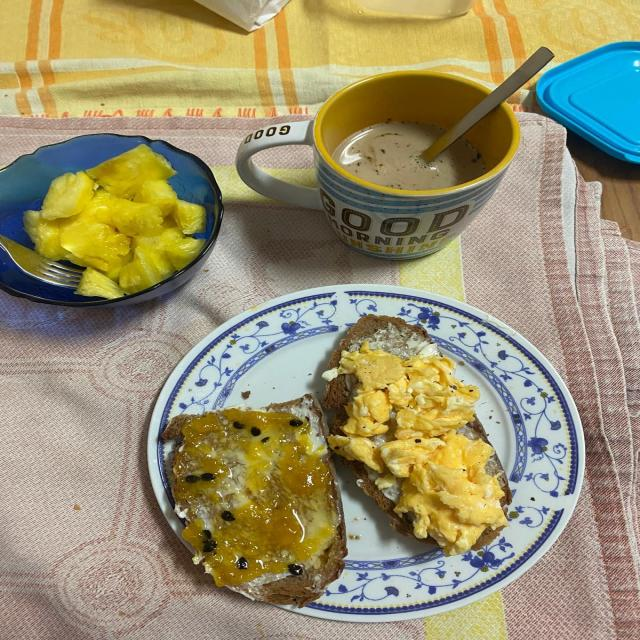coffee: (333, 122, 486, 190)
coffee cup: (236, 48, 553, 259)
fork: (0, 235, 83, 288)
pineapple: (23, 150, 206, 298)
plate: (147, 285, 584, 622)
toasted bread: (163, 396, 346, 606), (327, 314, 439, 372), (323, 370, 350, 410)
